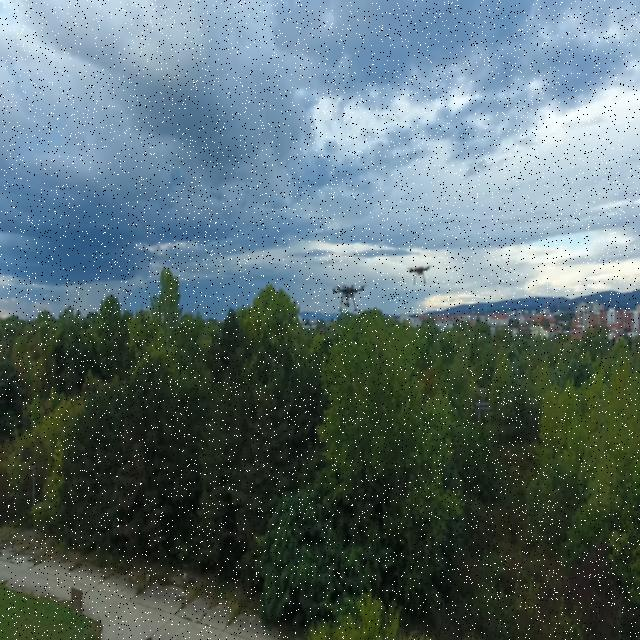UAV: (328, 277, 366, 316), (394, 258, 442, 286)
